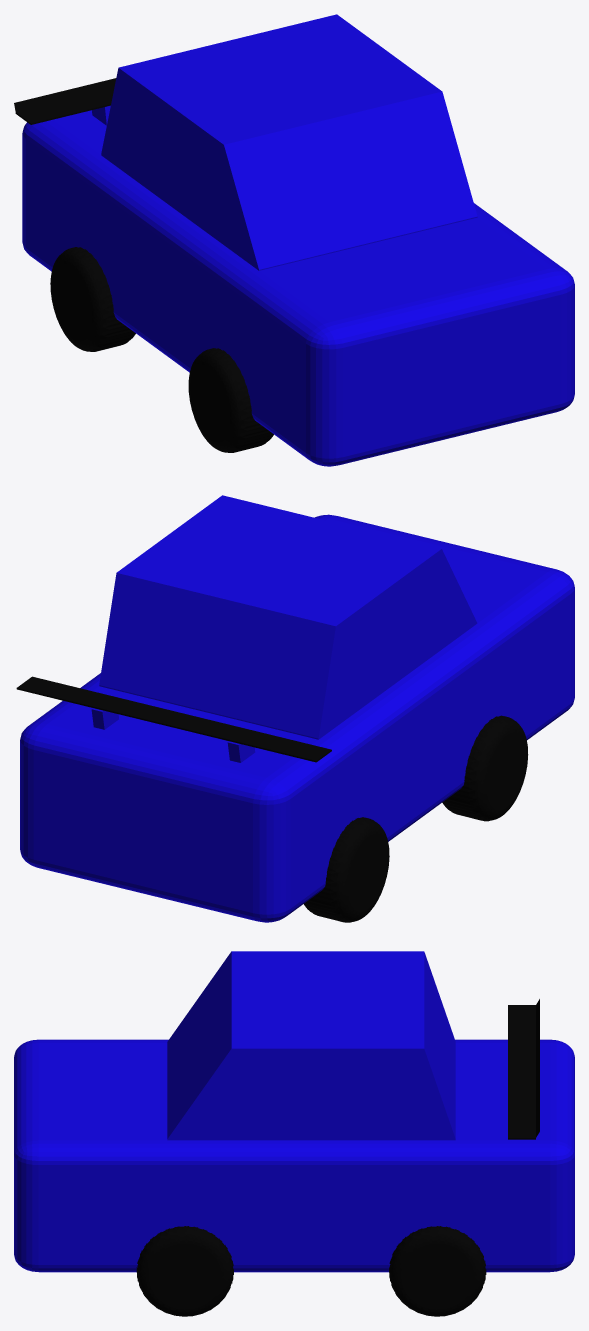
The picture shows the model from 3 angles, top to bottom: view 1: azimuth 30°, elevation 25°; view 2: azimuth 150°, elevation 25°; view 3: azimuth 270°, elevation 25°; orthographic projection. The views are drawn at different scales.
Visible parts, largest first — view 1: 立方体, 円柱, 円柱.002, 立方体.003; view 2: 立方体, 円柱.002, 円柱, 立方体.003; view 3: 立方体, 円柱.001, 円柱.003, 立方体.003.
Boxes of the visible parts, <box> form: 立方体: <box>22,14,574,466</box>; 円柱: <box>188,348,273,452</box>; 円柱.002: <box>50,247,135,351</box>; 立方体.003: <box>14,78,116,124</box>; 立方体: <box>20,495,574,922</box>; 円柱.002: <box>304,817,389,922</box>; 円柱: <box>442,715,528,821</box>; 立方体.003: <box>16,676,331,762</box>; 立方体: <box>14,951,574,1272</box>; 円柱.001: <box>136,1226,233,1316</box>; 円柱.003: <box>389,1226,486,1316</box>; 立方体.003: <box>508,999,539,1139</box>.
Bounding box in the file's own units: 2.92 × 2.61 × 5.2.
